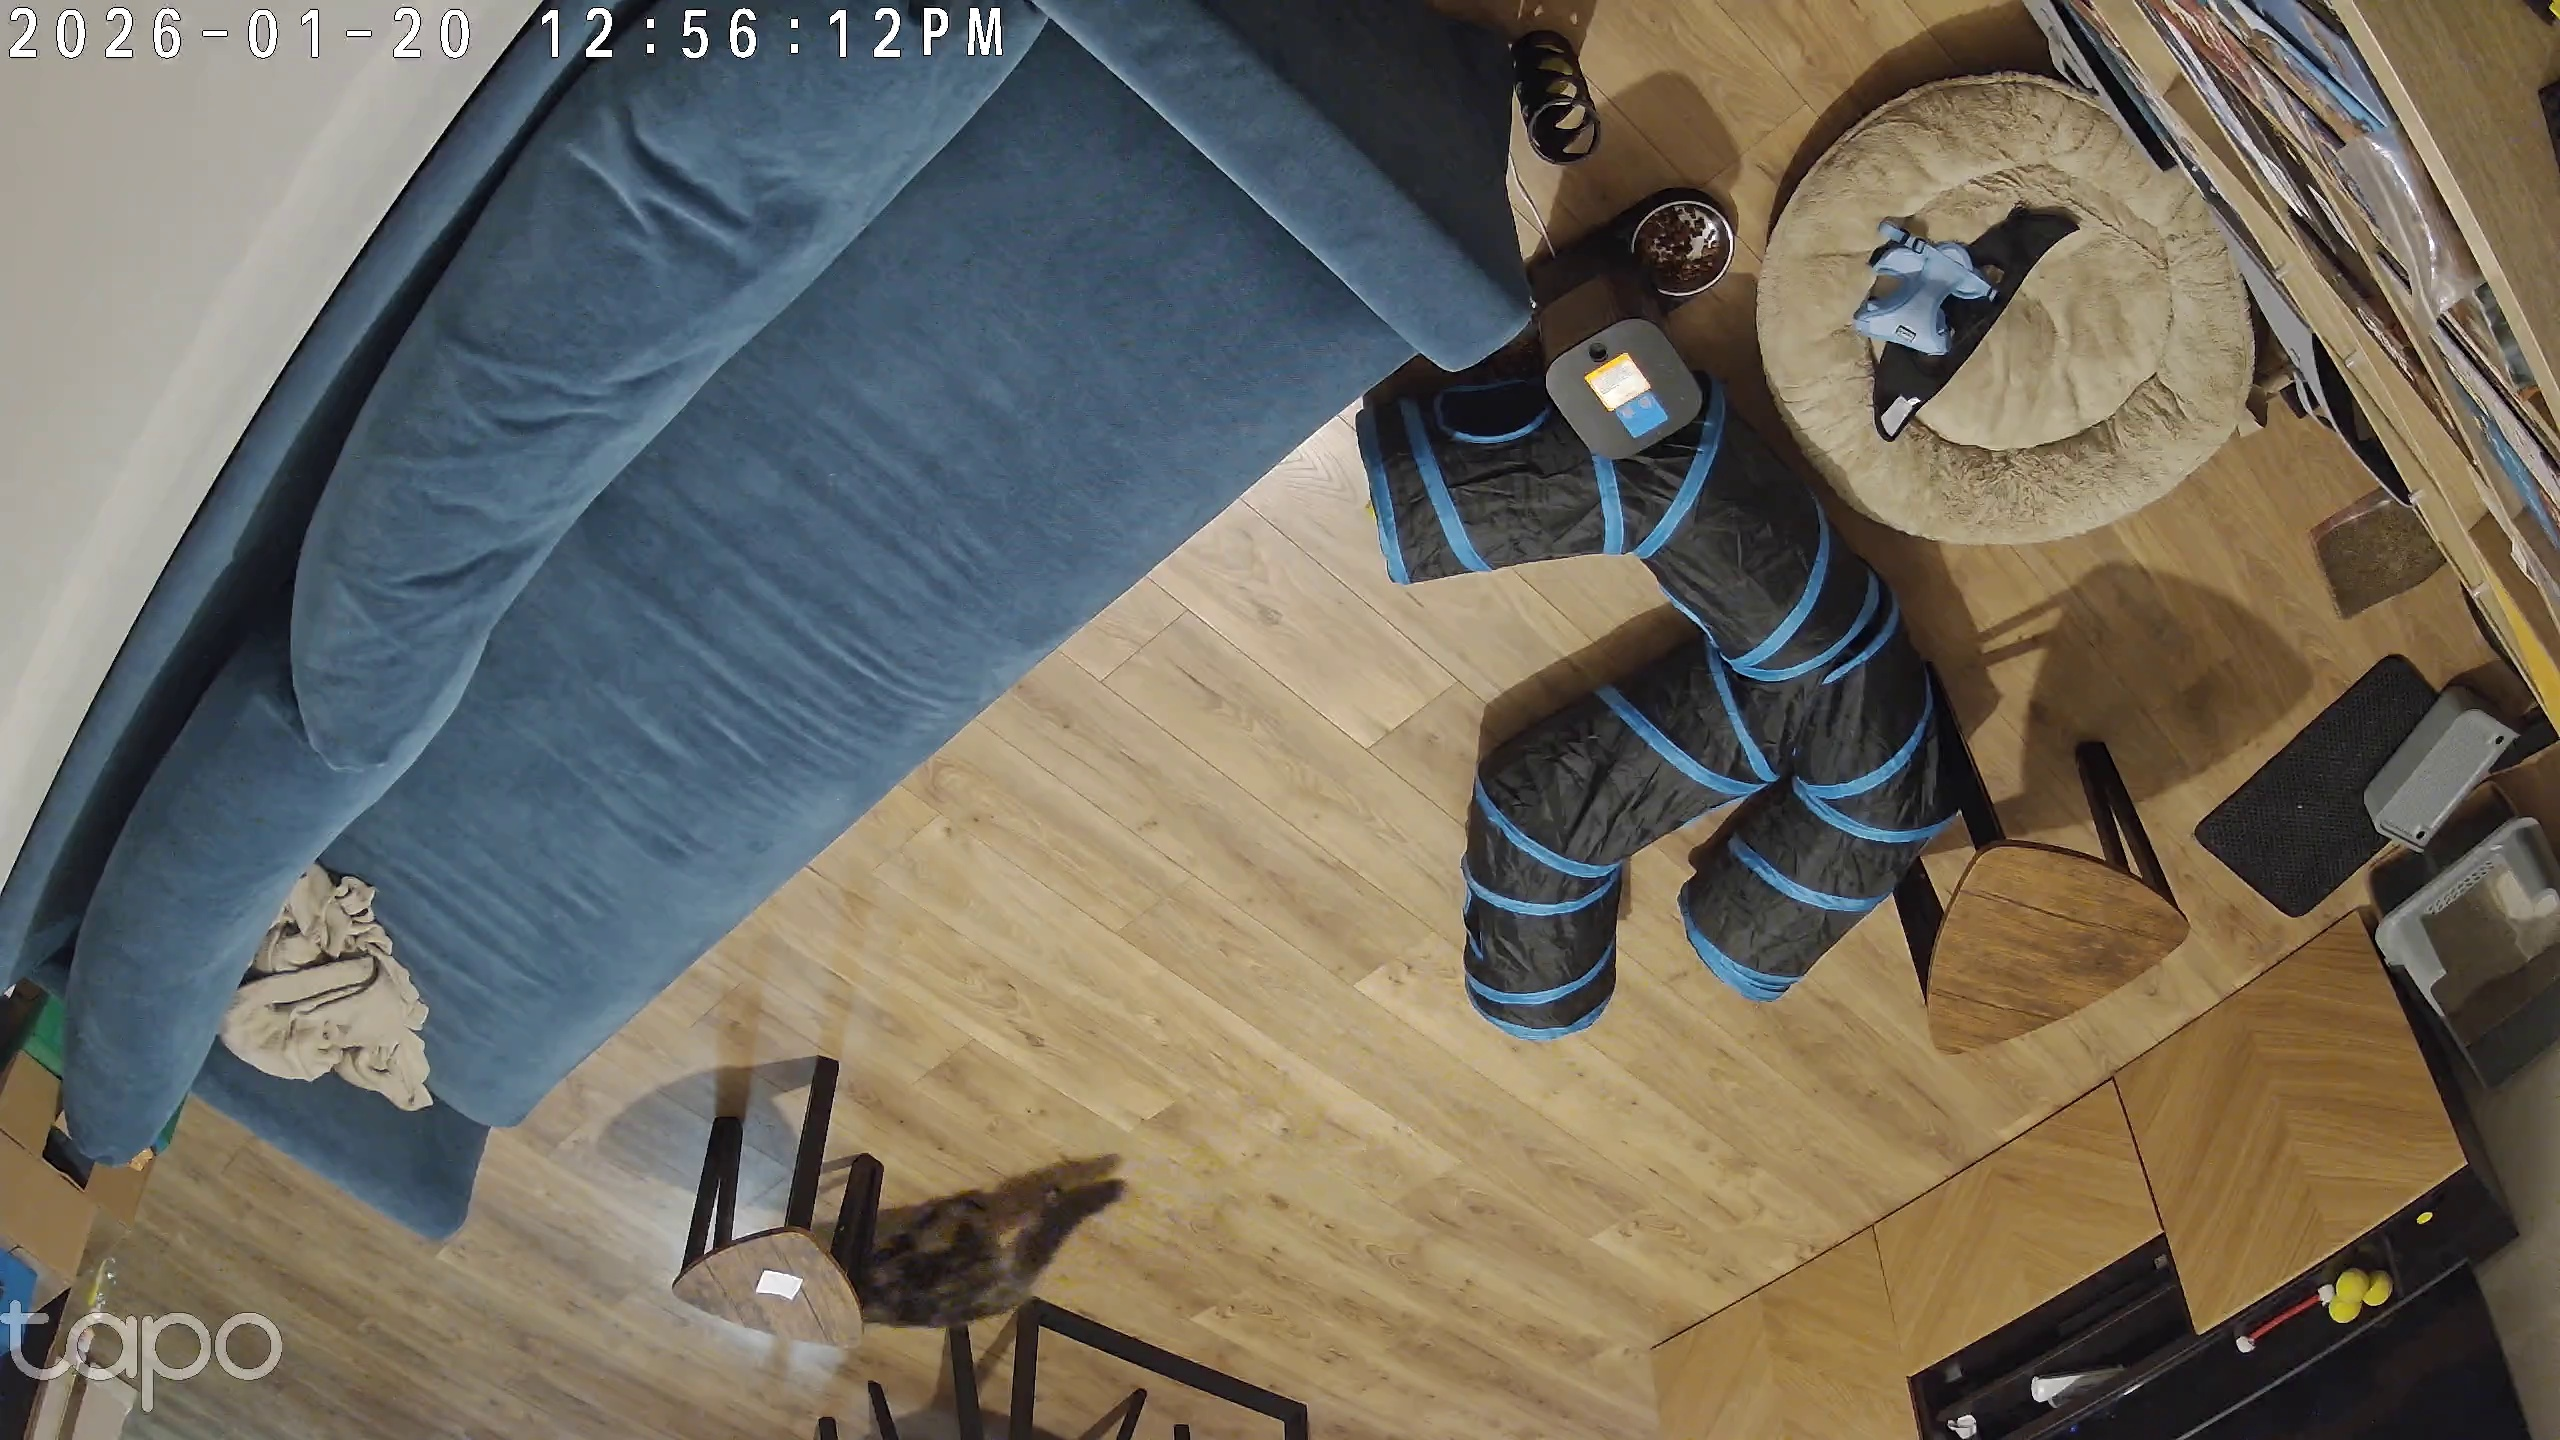Nala: (828, 1146, 1131, 1331)
